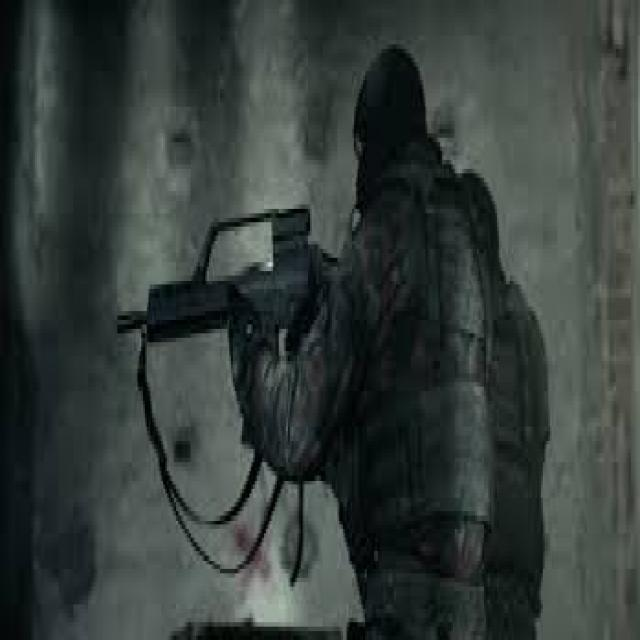weapon: (112, 198, 353, 384)
